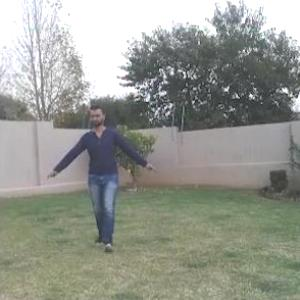land: (36, 92, 164, 261)
